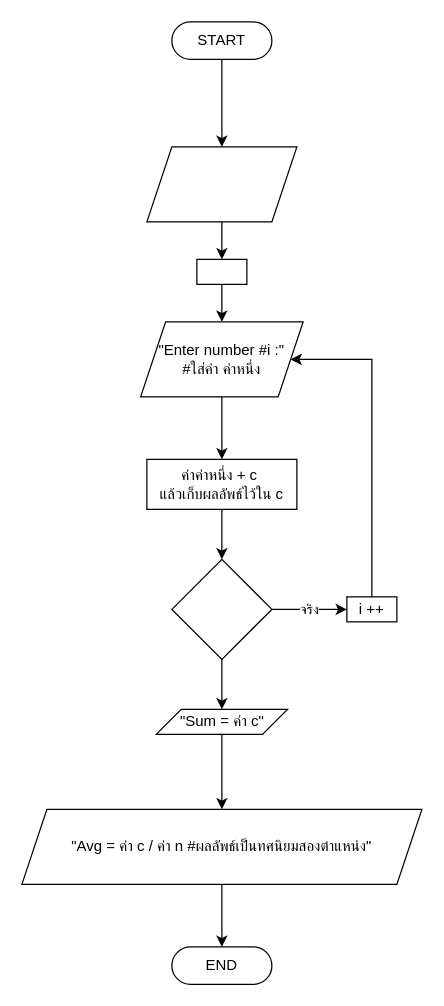
This 444x1006 diagram has some shape labels left out. Each missing label, with the centre of its shape:
"Enter value n " #ใส่ค่า n: point (221, 184)
i <= ค่า n: point (221, 608)
i = 1: point (221, 271)
